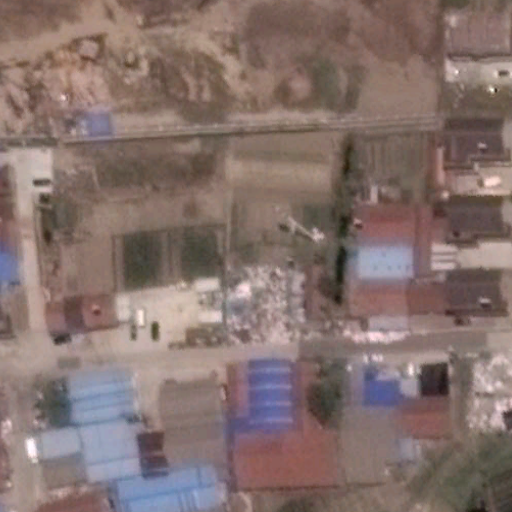msw: (220, 269, 303, 345), (463, 355, 512, 434)
